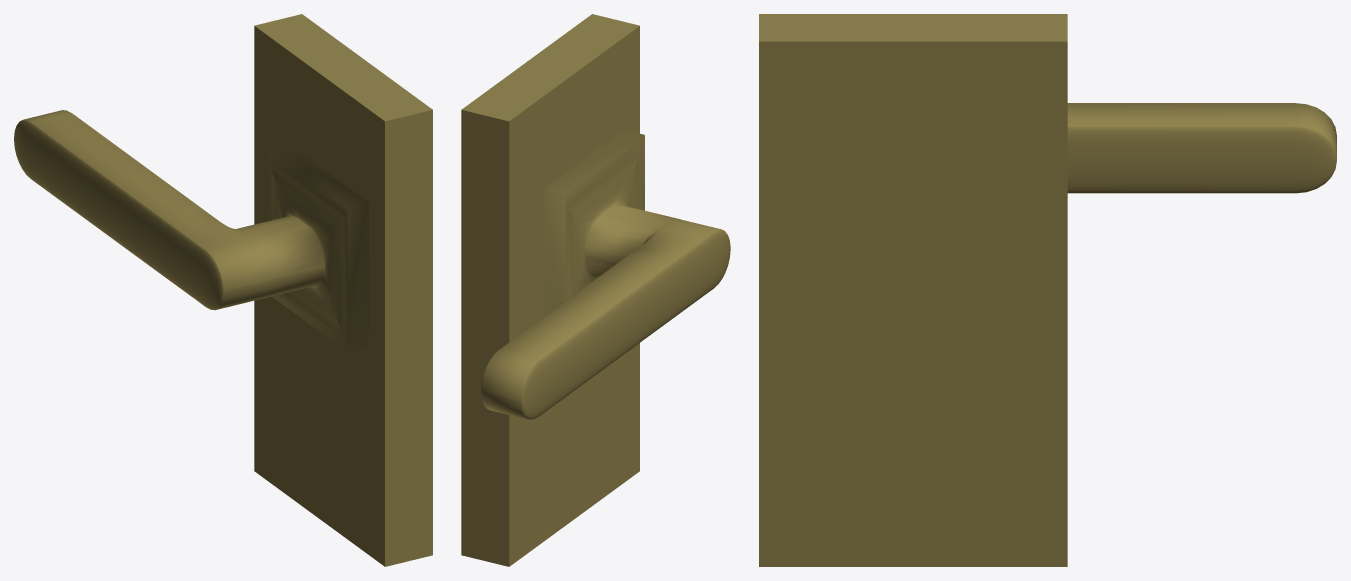
File: 门把手.fbx
3 views of the same model, side by side, from view 1: azimuth 30°, elevation 25°; view 2: azimuth 150°, elevation 25°; view 3: azimuth 270°, elevation 25° (orthographic). The views are drawn at different scales.
Parts seen in each view (by area): view 1: 门把手底座; view 2: 门把手底座; view 3: 门把手底座.
Part boxes in pixels (x1,y1,x2,y2): 门把手底座: (14,14,432,566); 门把手底座: (461,14,730,566); 门把手底座: (759,14,1336,566).
Bounding box in the file's own units: 53.34 × 128 × 127.
